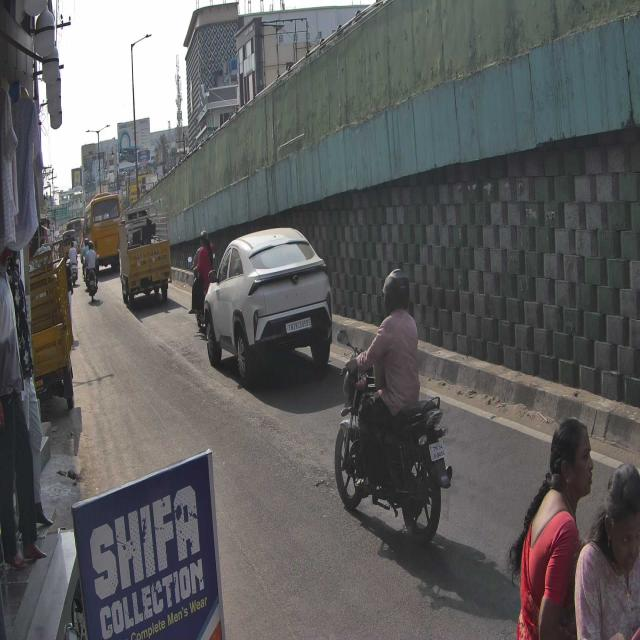single_rider: (332, 266, 454, 541)
